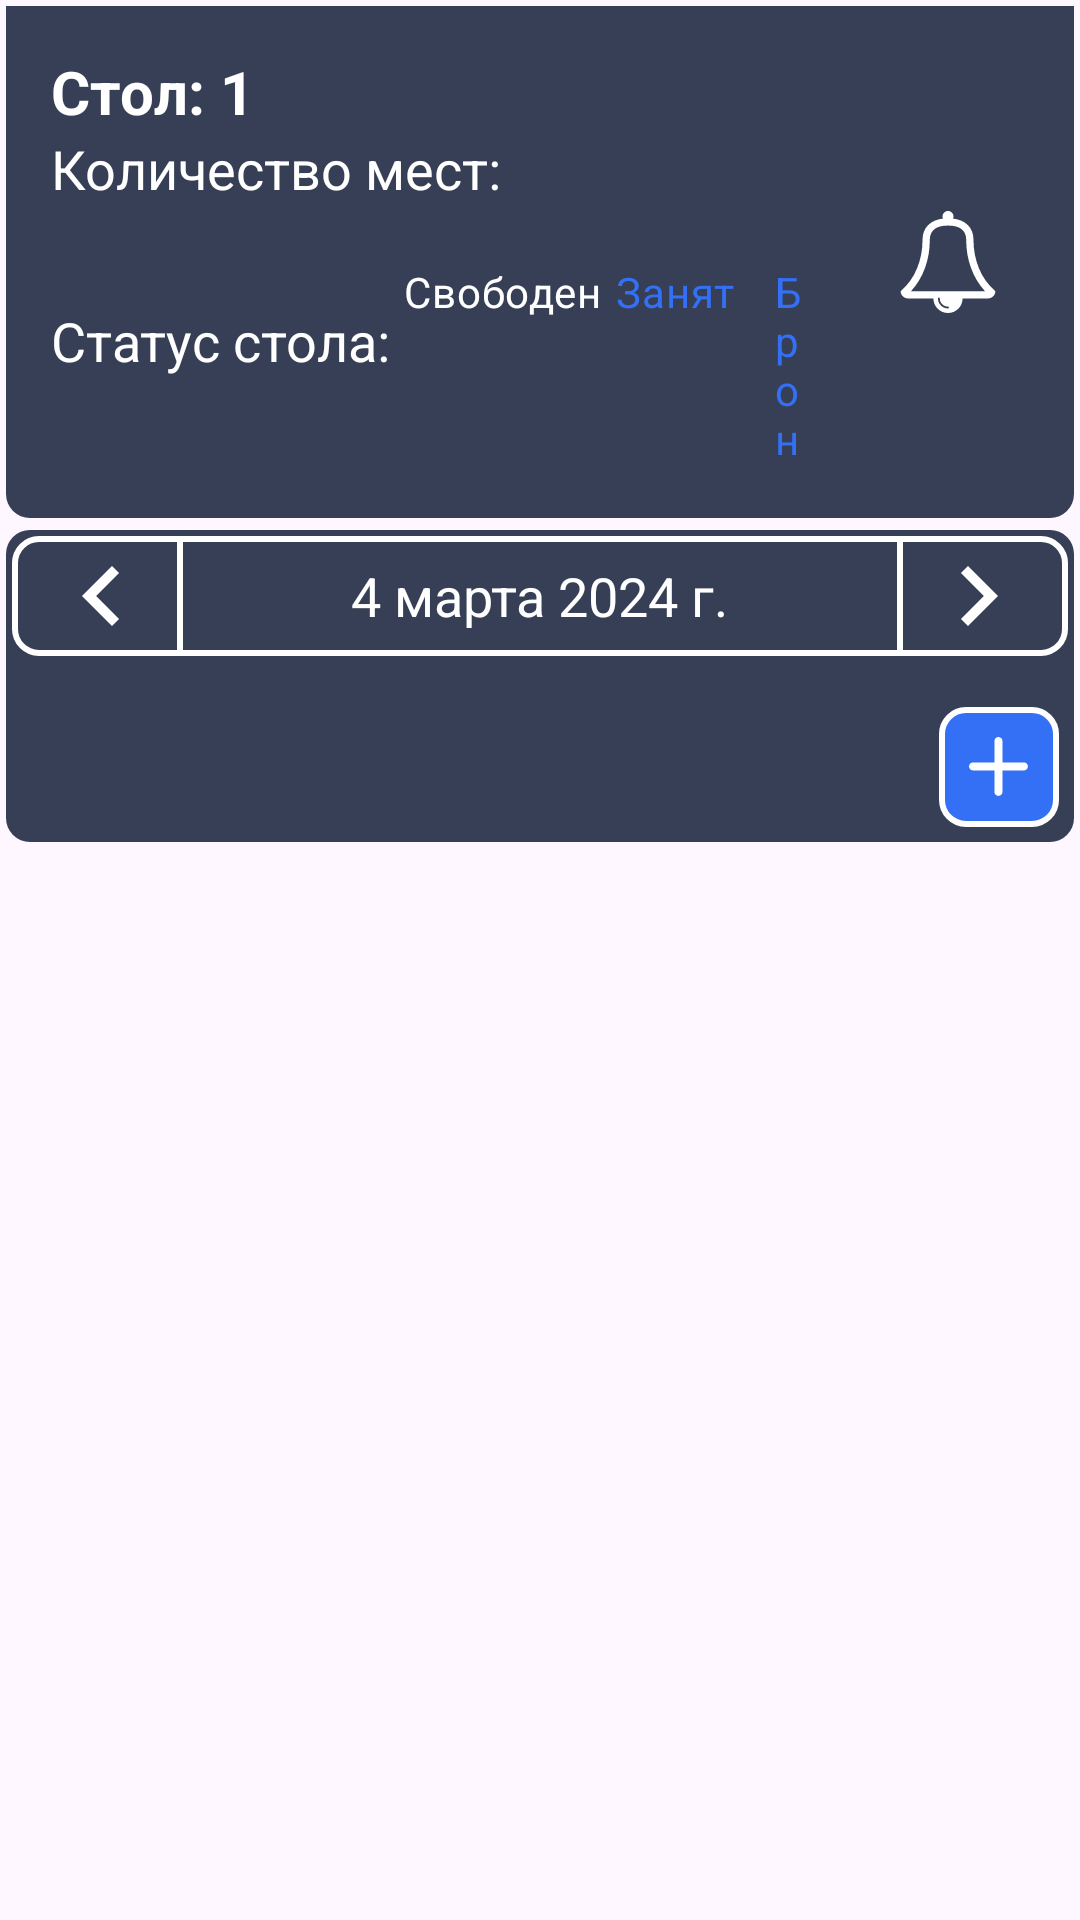

Named icons in this screenshot (1080×1920) and their bounding boxes, (x1, y1, x2, y2):
navigate before: (42, 536, 162, 656)
navigate next: (918, 536, 1038, 656)
plus: (969, 737, 1028, 796)
